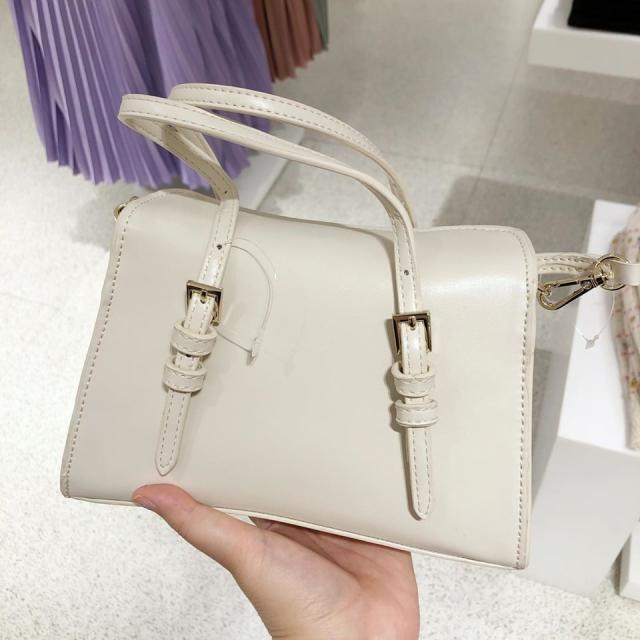Handbag: (60, 83, 533, 577)
